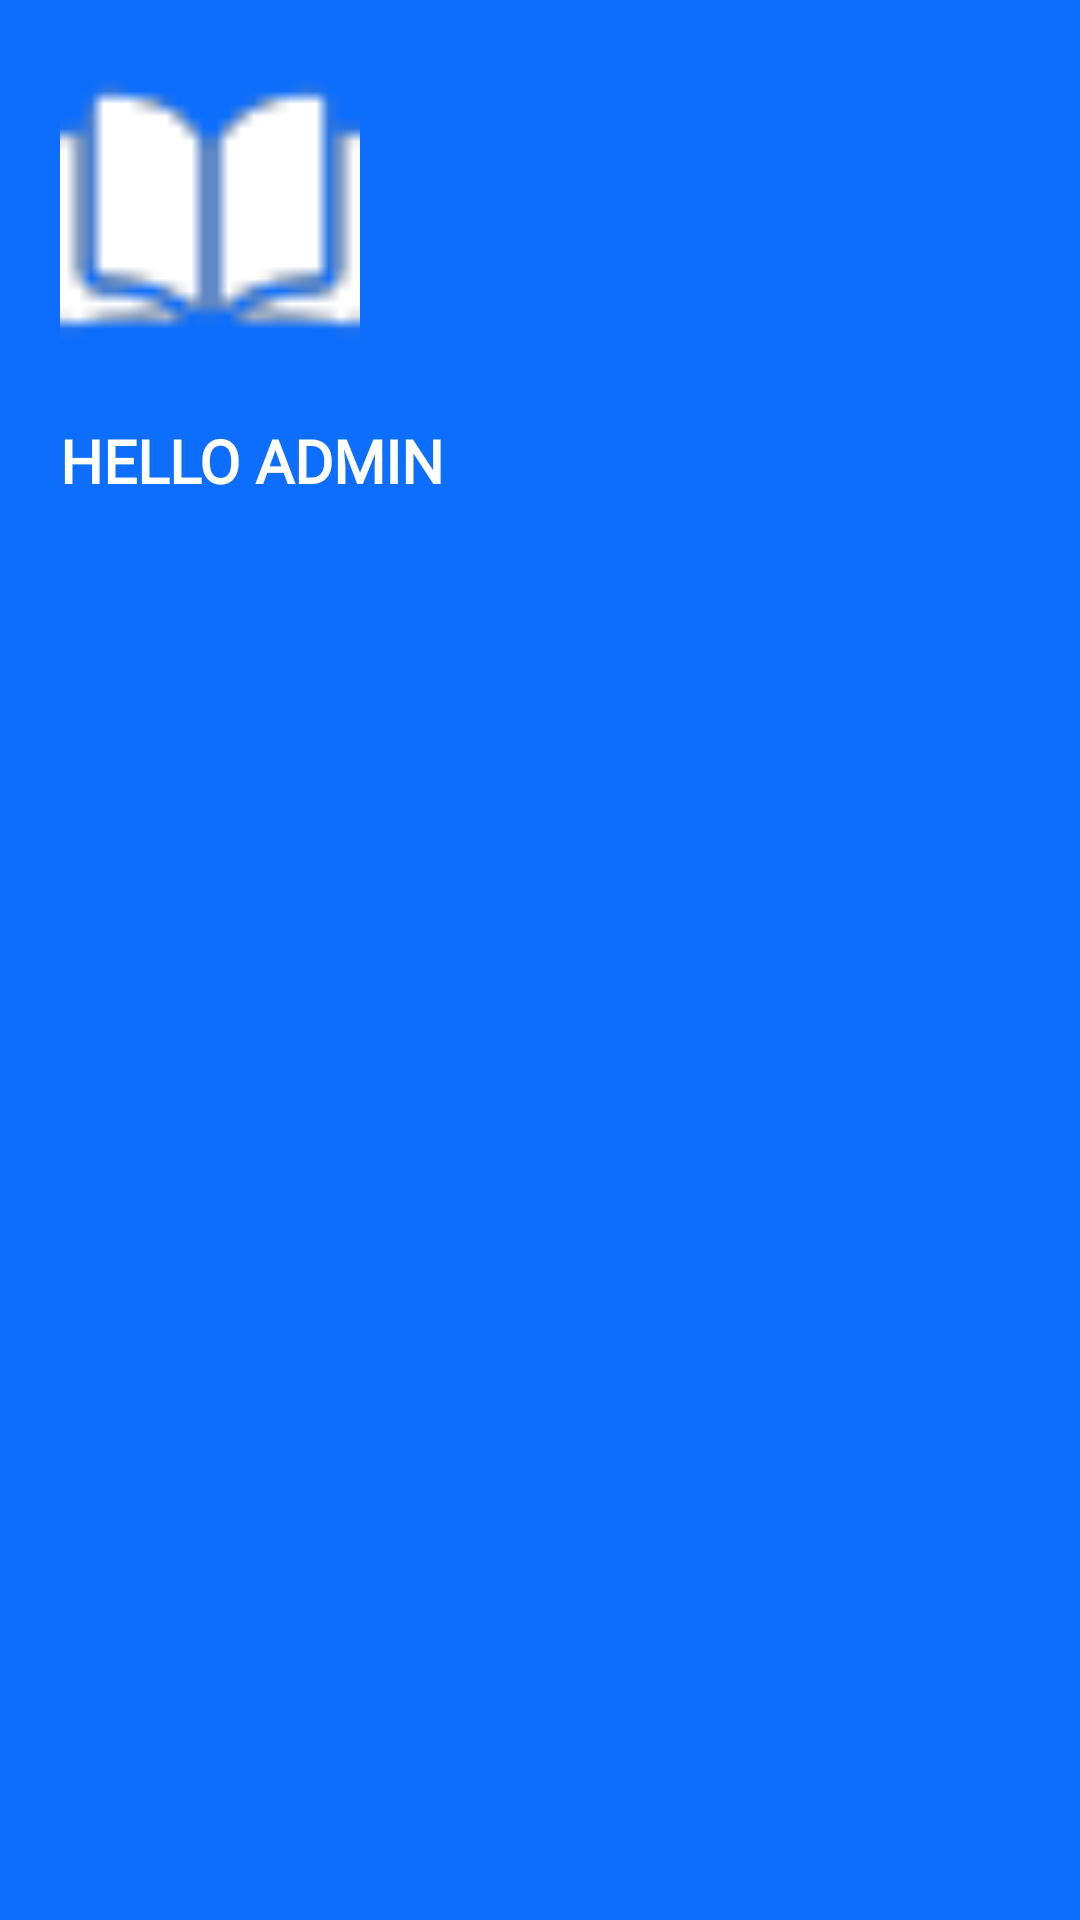

Where to tap for icons on this 1080×1920 app screen, as (x,y):
book: (210,208)
